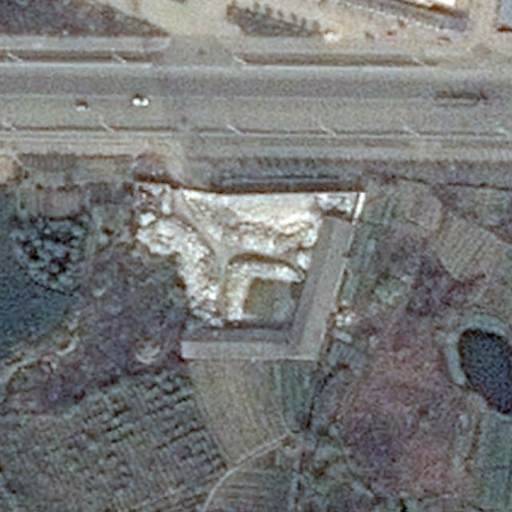msw: (137, 191, 335, 332)
